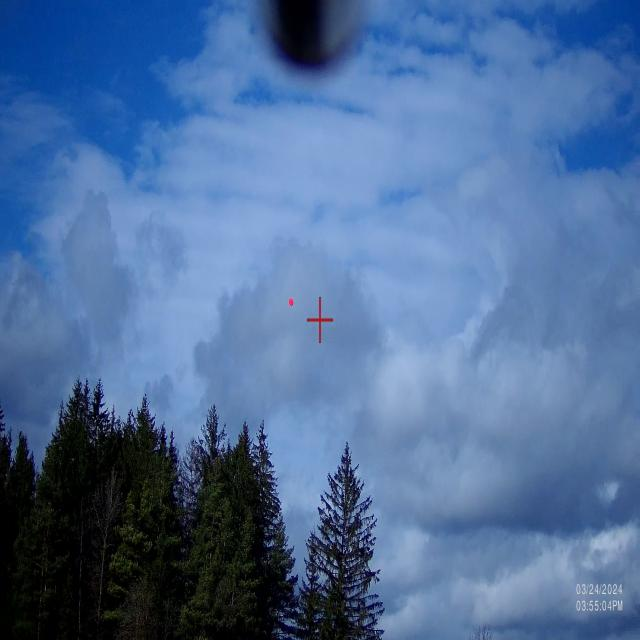entire: (286, 296, 297, 312)
